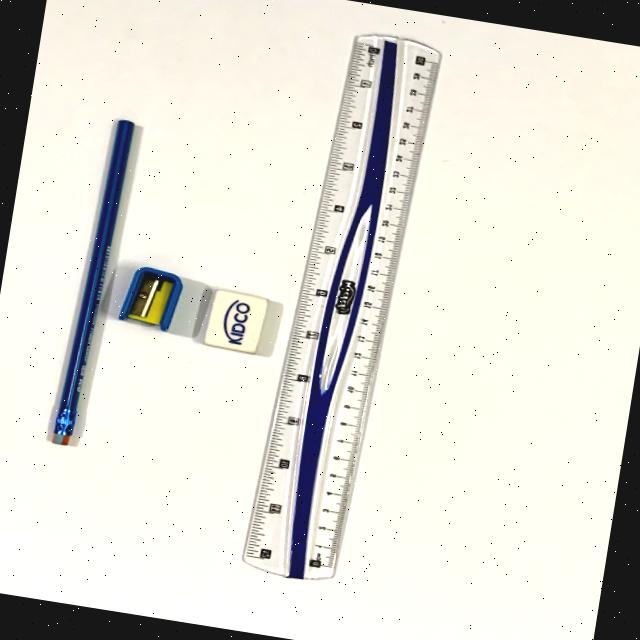Eraser: (191, 272, 283, 368)
Pencil: (19, 96, 158, 476)
Scale: (219, 11, 466, 628)
Sharpner: (108, 257, 192, 347)
